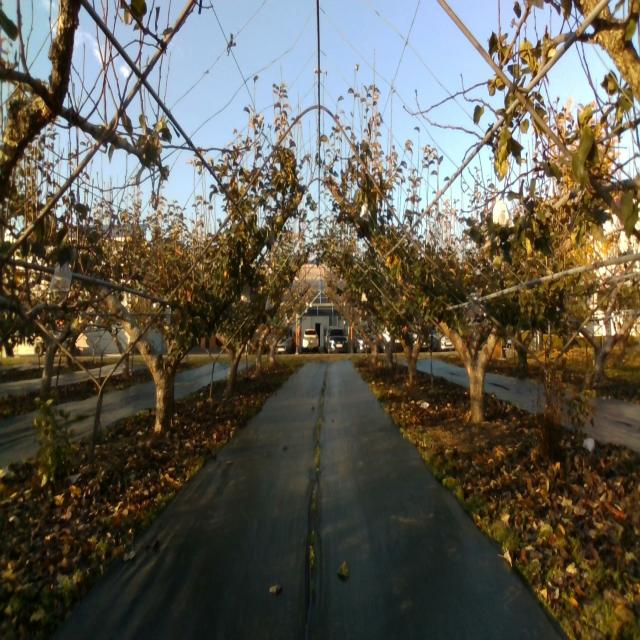pearbags: (48, 263, 72, 294), (493, 198, 514, 229)
